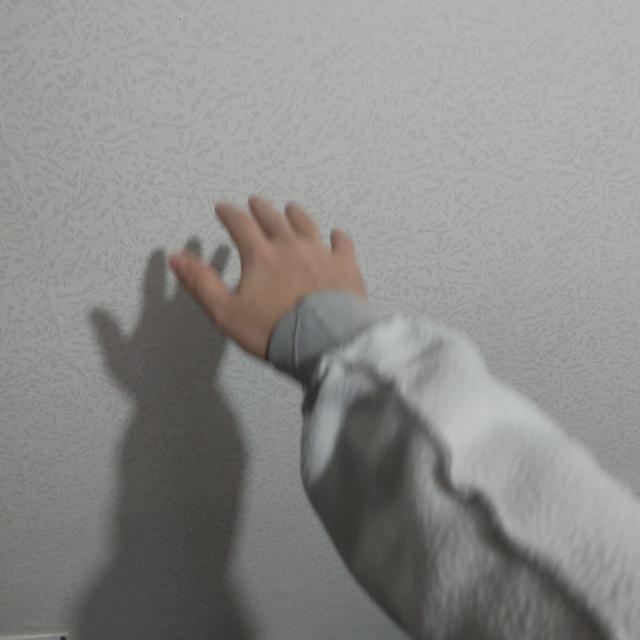hand: (168, 188, 604, 607)
